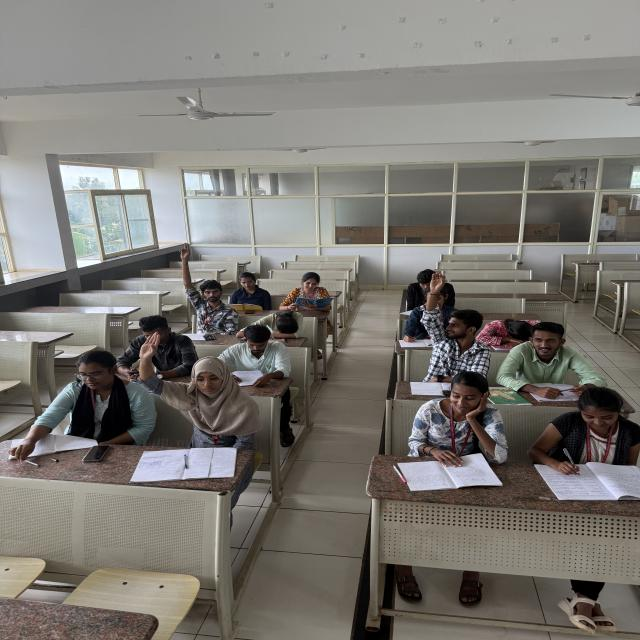Hand Rising: (136, 331, 234, 446), (423, 269, 483, 382), (172, 238, 240, 331)
Reading: (400, 368, 514, 476), (206, 323, 295, 388), (405, 266, 455, 316), (278, 272, 336, 312), (224, 271, 271, 310)
Sleeping: (474, 314, 546, 352), (234, 307, 306, 343)
Using Phone: (109, 313, 197, 381)
Writing: (523, 383, 640, 494), (404, 284, 456, 347)
